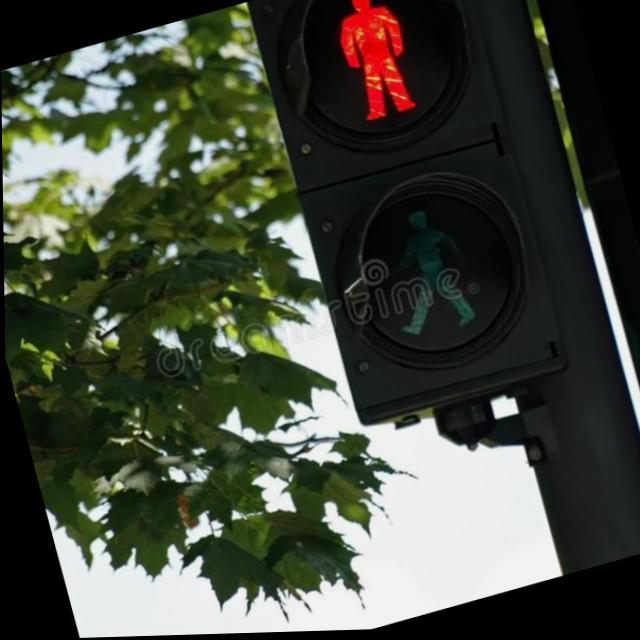red_light: (252, 0, 500, 189)
